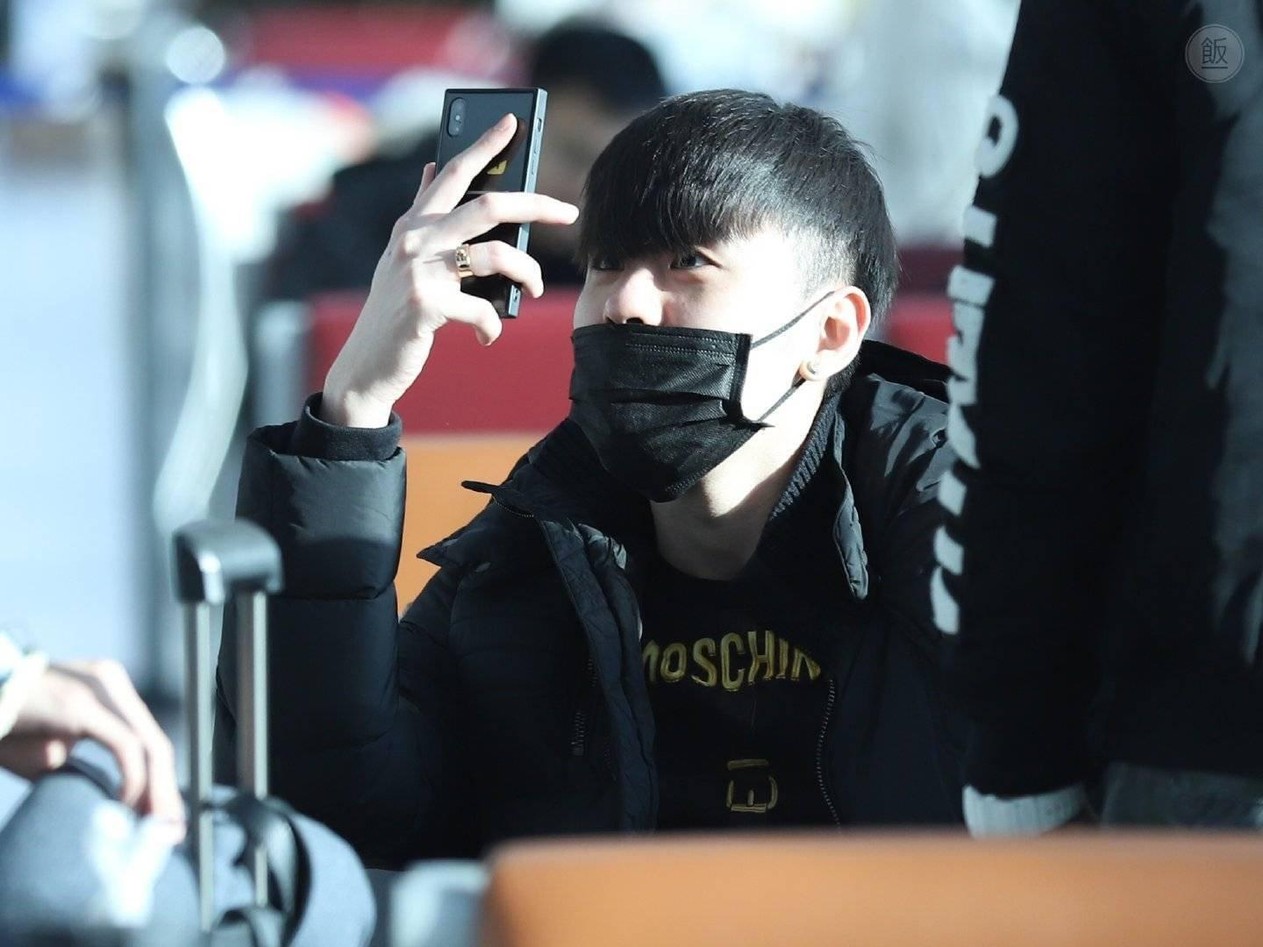WRONG: (569, 214, 788, 470)
